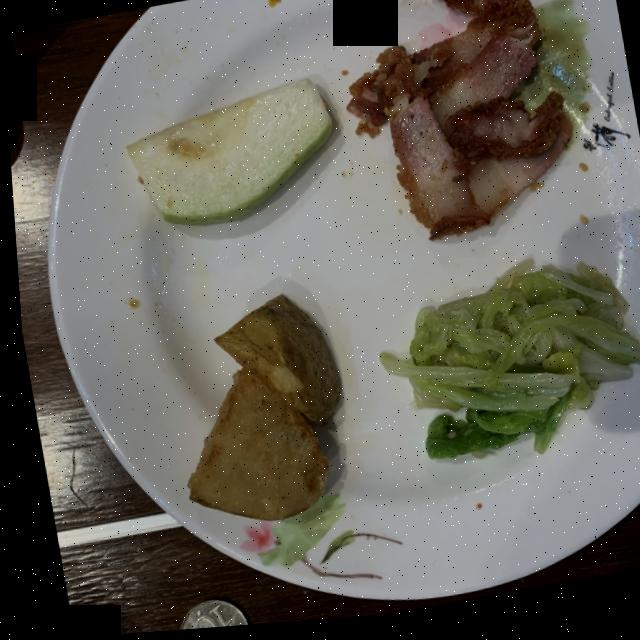cabbage: (375, 272, 640, 464)
coin: (171, 601, 239, 632)
fried potato: (180, 297, 333, 523)
guava -sliced-: (124, 82, 329, 226)
red grilled pork: (345, 0, 569, 245)
